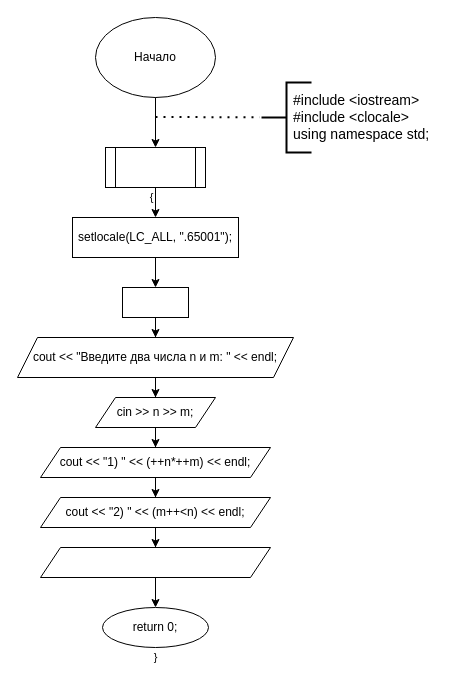
Some shapes in this 449 by 681 pixel diagram are drawn without their labels. The box of each missing label's shape, as (x1, y1, x2, y2) in pixels:
cout << "3) " << (n++>m) << endl;: (40, 546, 270, 578)
int main(): (104, 146, 206, 188)
int n,m;: (122, 286, 188, 318)
